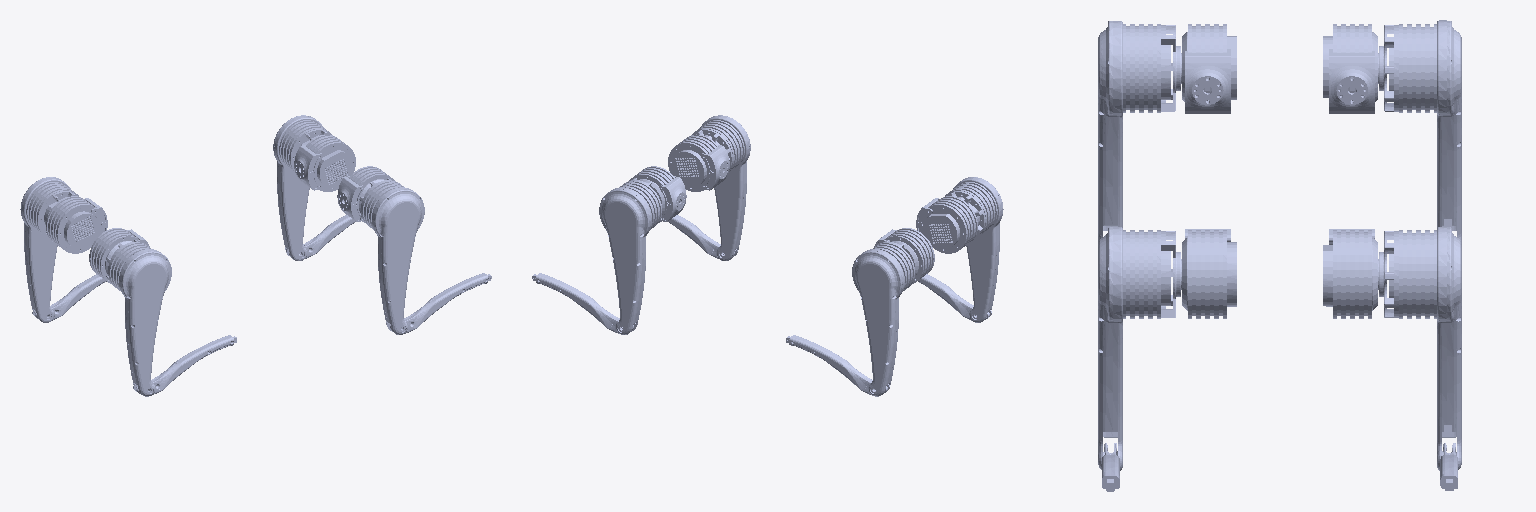
--- What the picture shows (computed from the rendered views, not written in the file) ---
3 views of the same robot in one strip: view 1: azimuth 30°, elevation 25°; view 2: azimuth 150°, elevation 25°; view 3: azimuth 270°, elevation 25° (orthographic).
Robot: jamal2_v5 — 19 links, 18 joints (12 revolute, 6 fixed); root link base; default pose: all joints at 0 but 4 set to mid-range because 0 is outside their limits (FL_calf_joint = -1.77, RL_calf_joint = -1.77, FR_calf_joint = -1.77, RR_calf_joint = -1.77).
Visible links, largest first — view 1: FR_thigh, RR_thigh, RL_thigh, FL_thigh, RL_hip, FL_hip, FR_hip, RR_hip, FR_calf, RR_calf, RL_calf, FL_calf; view 2: FL_thigh, RL_thigh, RR_thigh, FR_thigh, RR_hip, FR_hip, FL_hip, RL_hip, FL_calf, RL_calf, RR_calf, FR_calf; view 3: FR_thigh, FL_thigh, RR_thigh, RL_thigh, RR_hip, RL_hip, FR_hip, FL_hip, FR_calf, FL_calf.
Boxes of the visible links, x1,y1,x2,y2 form: FR_thigh: (359,178,424,334); RR_thigh: (106,240,171,396); RL_thigh: (20,177,78,322); FL_thigh: (273,115,331,260); RL_hip: (46,196,107,253); FL_hip: (294,135,355,191); FR_hip: (337,166,394,222); RR_hip: (89,228,149,284); FR_calf: (388,273,491,333); RR_calf: (133,335,236,394); RL_calf: (32,274,106,320); FL_calf: (286,215,355,258); FL_thigh: (599,178,661,334); RL_thigh: (852,240,914,396); RR_thigh: (945,177,1003,322); FR_thigh: (692,115,750,260); RR_hip: (916,196,977,253); FR_hip: (668,135,729,191); FL_hip: (629,166,686,222); RL_hip: (874,228,934,284); FL_calf: (532,273,635,333); RL_calf: (786,335,889,394); RR_calf: (918,274,991,320); FR_calf: (668,215,737,258); FR_thigh: (1098,227,1180,470); FL_thigh: (1379,227,1461,470); RR_thigh: (1098,21,1180,243); RL_thigh: (1379,20,1461,243); RR_hip: (1181,24,1236,113); RL_hip: (1323,24,1378,113); FR_hip: (1181,229,1236,318); FL_hip: (1323,229,1378,318); FR_calf: (1102,443,1119,491); FL_calf: (1440,443,1457,490).
Bounding box of the posed robot: 0.7866 × 0.4021 × 0.2924 m (x, y, z).
12 mesh visuals loaded from 6 distinct referenced files (4 Collada DAE); not drawn: 5 (reference not matched to a file when rendering).

URDF robot description (jamal2_v5):
<?xml version="1.0" encoding="utf-8"?>
<!-- Finalized URDF for Gazebo Sim (ROS 2 Humble)
     - Mesh paths converted to package:// URIs (jamal03_description)
     - Removed Gazebo Classic plugin block
     - Added tiny inertials for zero-mass links (imu, radar)
-->
<robot name="jamal2_v5">

  <link name="base">
    <!-- <inertial>
      <origin xyz="-0.010 0 0"/>
      <mass value="11.75"/>
      <inertia ixx="0.0565900000000" ixy="0.0" ixz="0.0" iyy="0.1660600000000" iyz="0.0" izz="0.2001200000000"/>
    </inertial> -->
    <inertial>
    <origin rpy="0 0 0" xyz="0.0 0 0.0"/>
      <mass value="12.8185384756311"/>
      <inertia ixx="0.0565667940678376" ixy="-8.54731557026013e-06" ixz="3.411601276539e-05" iyy="0.0364645326398335" iyz="-4.86965244292946e-06" izz="0.0737588756462406"/>
    </inertial>
      <!-- <origin rpy="0 0 0" xyz="-0.025 0 -0.0005"/>
      <mass value="13.2256112448737"/>
      <inertia ixx="0.0574649406584405" ixy="-1.11608864587071e-05" ixz="-0.000327983144671164" iyy="0.0379676555450497" iyz="-6.76168747114003e-06" izz="0.0755303202855583"/>
    </inertial> -->
    <visual>
      <origin xyz="0 0 0" rpy="0 0 0"/>
      <geometry>
        <mesh filename="../dae/base.dae"/>
      </geometry>
      <material name="">
        <color rgba="0.792156862745098 0.819607843137255 0.933333333333333 1"/>
      </material>
    </visual>
    <!-- <collision>
      <origin xyz="0 0 0" rpy="0 0 0"/>
      <geometry>
        <mesh filename="file://[local-path]/jamal_ws/src/jamal03_description/meshes/dae/base.dae"/>
      </geometry>
    </collision> -->
    <collision>
      <origin rpy="0 0 0" xyz="0 0 0"/>
      <geometry>
        <box size="0.3762 0.2 0.114"/>
      </geometry>
    </collision>
  </link>

  <!--
  <link name="base_inertia">
    <inertial>
      <origin xyz="-0.010 0 0"/>
      <mass value="11.75"/>
      <inertia ixx="0.0565900000000" ixy="0.0" ixz="0.0" iyy="0.1660600000000" iyz="0.0" izz="0.2001200000000"/>
    </inertial>
  </link>
  <joint name="trunk_to_base_inertia" type="fixed">
    <parent link="trunk"/>
    <child link="base_inertia"/>
    <origin rpy="0 0 0" xyz="0 0 0"/>
  </joint>
  -->

  <!-- FL LEG -->
  <link name="FL_hip">
    <inertial>
      <origin xyz="-0.00339550828476409 -0.000904087285408195 -3.93218339349122E-05" rpy="0 0 0"/>
      <mass value="0.9"/>
      <inertia ixx="0.00035687" ixy="0.0" ixz="0.0" iyy="0.00065235" iyz="0.0" izz="0.00052753"/>
    </inertial>
    <visual>
      <origin xyz="0 0 0" rpy="0 0 0"/>
      <geometry>
        <mesh filename="../dae/hip.dae"/>
      </geometry>
      <material name="">
        <color rgba="0.792156862745098 0.819607843137255 0.933333333333333 1"/>
      </material>
    </visual>
    <!-- <collision>
      <origin xyz="0 0 0" rpy="0 0 0"/>
      <geometry>
        <mesh filename="file://[local-path]/jamal_ws/src/jamal03_description/meshes/dae/hip.dae"/>
      </geometry>
    </collision> -->
    <!-- <collision>
      <origin rpy="1.5707963267948966 0 0" xyz="0 0.08 0" />
      <geometry>
        <cylinder length="0.04" radius="0.046" />
      </geometry>
    </collision> -->
    <collision>
      <origin rpy="1.5707963267948966 0 0" xyz="0 0 0"/>
      <geometry>
        <cylinder length="0.04" radius="0.046"/>
      </geometry>
    </collision>
  </link>
  <joint name="FL_hip_joint" type="revolute">
    <origin xyz="0.2709 0.0804499999999991 0" rpy="0 0 0"/>
    <parent link="base"/>
    <child link="FL_hip"/>
    <axis xyz="1 0 0"/>
    <limit lower="-1.0472" upper="1.0472" effort="60" velocity="30.02"/>
  </joint>

  <link name="FL_thigh">
    <inertial>
      <origin xyz="-0.000671046034244019 -0.0302253641306092 -0.0144678808109222" rpy="0 0 0"/>
      <mass value="1.3"/>
      <inertia ixx="0.00502768" ixy="0.0" ixz="0.0" iyy="0.00407764" iyz="0.0" izz="0.00172122"/>
    </inertial>
    <visual>
      <origin xyz="0 0 0" rpy="0 0 0"/>
      <geometry>
        <mesh filename="../dae/thigh.dae"/>
      </geometry>
      <material name="">
        <color rgba="0.792156862745098 0.819607843137255 0.933333333333333 1"/>
      </material>
    </visual>
    <!-- <collision>
      <origin xyz="0 0 0" rpy="0 0 0"/>
      <geometry>
        <mesh filename="file://[local-path]/jamal_ws/src/jamal03_description/meshes/dae/thigh.dae"/>
      </geometry>
    </collision> -->
    <!-- <collision>
      <origin rpy="0 1.5707963267948966 0" xyz="0 0 -0.1065" />
      <geometry>
        <box size="0.11 0.0245 0.034" />
      </geometry>
    </collision> -->
    <collision>
      <origin rpy="0 1.6707963267948966 0" xyz="-0.015 0 -0.1125"/>
      <geometry>
        <box size="0.225 0.0245 0.034"/>
      </geometry>
    </collision>
    <collision>
      <origin rpy="1.5707963267948966 0 0" xyz="0 -0.008 0"/>
      <geometry>
        <cylinder length="0.032" radius="0.041"/>
      </geometry>
    </collision>
  </link>
  <joint name="FL_thigh_joint" type="revolute">
    <origin xyz="0 0.10705 0" rpy="0 0 0"/>
    <parent link="FL_hip"/>
    <child link="FL_thigh"/>
    <axis xyz="0 1 0"/>
    <limit lower="-1.57" upper="3.4907" effort="60" velocity="30.02"/>
  </joint>

  <link name="FL_calf">
    <inertial>
      <origin xyz="0.0103069670980445 8.8674414934875E-05 -0.0839291622348222" rpy="0 0 0"/>
      <mass value="0.150"/>
      <inertia ixx="0.0001228100000" ixy="0.0" ixz="0.0" iyy="0.0001254700000" iyz="0.0" izz="0.0"/>
    </inertial>
    <visual>
      <origin xyz="0 0 0" rpy="0 0 0"/>
      <geometry>
        <mesh filename="../dae/calf.dae"/>
      </geometry>
      <material name="">
        <color rgba="0.792156862745098 0.819607843137255 0.933333333333333 1"/>
      </material>
    </visual>
    <!-- <collision>
      <origin xyz="0 0 0" rpy="0 0 0"/>
      <geometry>
        <mesh filename="file://[local-path]/jamal_ws/src/jamal03_description/meshes/dae/calf.dae"/>
      </geometry>
    </collision> -->
    <!-- <collision>
      <origin rpy="0 -0.21 0" xyz="0.008 0 -0.06" />
      <geometry>
        <cylinder length="0.12" radius="0.012" />
      </geometry>
    </collision> -->
    <collision>
      <origin rpy="0 1.5707963267948966 0" xyz="0.0 0 -0.1175"/>
      <geometry>
        <box size="0.235 0.016 0.016"/>
      </geometry>
    </collision>
  </link>
  <joint name="FL_calf_joint" type="revolute">
    <origin xyz="0.00167691666386546 0 -0.22499375091434" rpy="0 0 0"/>
    <parent link="FL_thigh"/>
    <child link="FL_calf"/>
    <axis xyz="0 1 0"/>
    <limit lower="-2.67035" upper="-0.872665" effort="60" velocity="30.02"/>
  </joint>

  <link name="FL_foot">
    <inertial>
      <origin xyz="0.00893731403573057 5.86075363651073E-06 0.0227015493807513" rpy="0 0 0"/>
      <mass value="0.0320640218816045"/>
      <inertia ixx="0.000004011650" ixy="0.0" ixz="0.0" iyy="0.000004180755" iyz="0.0" izz="0.000003635190"/>
    </inertial>
    <visual>
      <origin xyz="0 0 0" rpy="0 0 0"/>
      <geometry>
        <mesh filename="../dae/foot.dae"/>
      </geometry>
      <material name="">
        <color rgba="0.792156862745098 0.819607843137255 0.933333333333333 1"/>
      </material>
    </visual>
    <collision>
      <origin xyz="0 0 0" rpy="0 0 0"/>
      <geometry>
        <sphere radius="0.02"/>
      </geometry>
    </collision>
  </link>
  <joint name="FL_foot_joint" type="fixed">
    <origin xyz="-0.00157691666386468 5.00000000003276E-05 -0.23" rpy="0 0 0"/>
    <parent link="FL_calf"/>
    <child link="FL_foot"/>
    <axis xyz="0 0 0"/>
  </joint>

  <!-- RL LEG -->
  <link name="RL_hip">
    <inertial>
      <origin xyz="0.00339550828476404 -0.0009040872854085 3.93218339348513E-05" rpy="0 0 0"/>
      <mass value="0.9"/>
      <inertia ixx="0.0003180000000" ixy="0.0" ixz="0.0" iyy="0.0004208600000" iyz="0.0" izz="0.0003061700000"/>
    </inertial>
    <visual>
      <origin xyz="0 0 0" rpy="0 3.1415 0"/>
      <geometry>
        <mesh filename="../dae/hip.dae"/>
      </geometry>
      <material name="">
        <color rgba="0.792156862745098 0.819607843137255 0.933333333333333 1"/>
      </material>
    </visual>
    <!-- <collision>
      <origin xyz="0 0 0" rpy="0 0 0"/>
      <geometry>
        <mesh filename="file://[local-path]/jamal_ws/src/jamal03_description/meshes/dae/hip.dae"/>
      </geometry>
    </collision> -->
    <!-- <collision>
      <origin rpy="1.5707963267948966 0 0" xyz="0 0.08 0" />
      <geometry>
        <cylinder length="0.04" radius="0.046" />
      </geometry>
    </collision> -->
    <collision>
      <origin rpy="1.5707963267948966 0 0" xyz="0 0 0"/>
      <geometry>
        <cylinder length="0.04" radius="0.046"/>
      </geometry>
    </collision>
  </link>
  <joint name="RL_hip_joint" type="revolute">
    <origin xyz="-0.2689 0.0804500000000009 0" rpy="0 0 0"/>
    <parent link="base"/>
    <child link="RL_hip"/>
    <axis xyz="1 0 0"/>
    <limit lower="-1.0472" upper="1.0472" effort="60" velocity="30.02"/>
  </joint>

  <link name="RL_thigh">
    <inertial>
      <origin xyz="-0.000671046033593636 -0.0302253641290889 -0.0144678808132316" rpy="0 0 0"/>
      <mass value="1.3"/>
      <inertia ixx="0.00502768" ixy="0.0" ixz="0.0" iyy="0.00407764" iyz="0.0" izz="0.00172122"/>
    </inertial>
    <visual>
      <origin xyz="0 0 0" rpy="0 0 0"/>
      <geometry>
        <mesh filename="../dae/thigh.dae"/>
      </geometry>
      <material name="">
        <color rgba="0.792156862745098 0.819607843137255 0.933333333333333 1"/>
      </material>
    </visual>
    <!-- <collision>
      <origin xyz="0 0 0" rpy="0 0 0"/>
      <geometry>
        <mesh filename="file://[local-path]/jamal_ws/src/jamal03_description/meshes/dae/thigh.dae"/>
      </geometry>
    </collision> -->
    <!-- <collision>
      <origin rpy="0 1.5707963267948966 0" xyz="0 0 -0.1065" />
      <geometry>
        <box size="0.11 0.0245 0.034" />
      </geometry>
    </collision> -->
    <collision>
      <origin rpy="0 1.6707963267948966 0" xyz="-0.015 0 -0.1125"/>
      <geometry>
        <box size="0.225 0.0245 0.034"/>
      </geometry>
    </collision>
    <collision>
      <origin rpy="1.5707963267948966 0 0" xyz="0 -0.008 0"/>
      <geometry>
        <cylinder length="0.032" radius="0.041"/>
      </geometry>
    </collision>
  </link>
  <joint name="RL_thigh_joint" type="revolute">
    <origin xyz="0 0.10705 0" rpy="0 0 0"/>
    <parent link="RL_hip"/>
    <child link="RL_thigh"/>
    <axis xyz="0 1 0"/>
    <limit lower="-0.5236" upper="4.5379" effort="60" velocity="30.02"/>
  </joint>

  <link name="RL_calf">
    <inertial>
      <origin xyz="0.0126339989859747 8.86744077252255E-05 -0.0839238523331708" rpy="0 0 0"/>
      <mass value="0.150"/>
      <inertia ixx="0.0001224000000" ixy="0.0" ixz="0.0" iyy="0.0001254700000" iyz="0.0" izz="0.000003609600"/>
    </inertial>
    <visual>
      <origin xyz="0 0 0" rpy="0 0 0"/>
      <geometry>
        <mesh filename="../dae/calf.dae"/>
      </geometry>
      <material name="">
        <color rgba="0.792156862745098 0.819607843137255 0.933333333333333 1"/>
      </material>
    </visual>
    <!-- <collision>
      <origin xyz="0 0 0" rpy="0 0 0"/>
      <geometry>
        <mesh filename="file://[local-path]/jamal_ws/src/jamal03_description/meshes/dae/calf.dae"/>
      </geometry>
    </collision> -->
    <!-- <collision>
      <origin rpy="0 -0.2 0" xyz="0.01 0 -0.06" />
      <geometry>
        <cylinder length="0.12" radius="0.013" />
      </geometry>
    </collision> -->
    <collision>
      <origin rpy="0 1.5707963267948966 0" xyz="0.0 0 -0.1175"/>
      <geometry>
        <box size="0.235 0.016 0.016"/>
      </geometry>
    </collision>
  </link>
  <joint name="RL_calf_joint" type="revolute">
    <origin xyz="-0.000650115239932358 0 -0.224999060776206" rpy="0 0 0"/>
    <parent link="RL_thigh"/>
    <child link="RL_calf"/>
    <axis xyz="0 1 0"/>
    <limit lower="-2.67035" upper="-0.872665" effort="60" velocity="30.02"/>
  </joint>

  <link name="RL_foot">
    <inertial>
      <origin xyz="0.00913734597626592 5.88313199131885E-06 0.0227015939594583" rpy="0 0 0"/>
      <mass value="0.0320638174515656"/>
      <inertia ixx="0.000000402415478" ixy="0.0" ixz="0.0" iyy="0.00000418078633" iyz="0.0" izz="0.00000362279264"/>
    </inertial>
    <visual>
      <origin xyz="0 0 0" rpy="0 0 0"/>
      <geometry>
        <mesh filename="../dae/foot.dae"/>
      </geometry>
      <material name="">
        <color rgba="0.792156862745098 0.819607843137255 0.933333333333333 1"/>
      </material>
    </visual>
    <collision>
      <origin xyz="0 0 0" rpy="0 0 0"/>
      <geometry>
        <sphere radius="0.02"/>
      </geometry>
    </collision>
  </link>
  <joint name="RL_foot_joint" type="fixed">
    <origin xyz="0.000550115239932258 5.00000000001888E-05 -0.23" rpy="0 0 0"/>
    <parent link="RL_calf"/>
    <child link="RL_foot"/>
    <axis xyz="0 0 0"/>
  </joint>

  <!-- FR LEG -->
  <link name="FR_hip">
    <inertial>
      <origin xyz="-0.00339550828476406 0.000904087285408264 3.93218339347566E-05" rpy="0 0 0"/>
      <mass value="0.9"/>
      <inertia ixx="0.0003180000000" ixy="0.0" ixz="0.0" iyy="0.0004208600000" iyz="0.0" izz="0.0003061700000"/>
    </inertial>
    <visual>
      <origin xyz="0 0 0" rpy="3.1415 0 0"/>
      <geometry>
        <mesh filename="../dae/hip.dae"/>
      </geometry>
      <material name="">
        <color rgba="0.792156862745098 0.819607843137255 0.933333333333333 1"/>
      </material>
    </visual>
    <!-- <collision>
      <origin xyz="0 0 0" rpy="0 0 0"/>
      <geometry>
        <mesh filename="file://[local-path]/jamal_ws/src/jamal03_description/meshes/dae/hip.dae"/>
      </geometry>
    </collision> -->
    <!-- <collision>
      <origin rpy="1.5707963267948966 0 0" xyz="0 -0.08 0" />
      <geometry>
        <cylinder length="0.04" radius="0.046" />
      </geometry>
    </collision> -->
    <collision>
      <origin rpy="1.5707963267948966 0 0" xyz="0 0 0"/>
      <geometry>
        <cylinder length="0.04" radius="0.046"/>
      </geometry>
    </collision>
  </link>
  <joint name="FR_hip_joint" type="revolute">
    <origin xyz="0.2709 -0.080450000000001 0" rpy="0 0 0"/>
    <parent link="base"/>
    <child link="FR_hip"/>
    <axis xyz="1 0 0"/>
    <limit lower="-1.0472" upper="1.0472" effort="60" velocity="30.02"/>
  </joint>

  <link name="FR_thigh">
    <inertial>
      <origin xyz="-0.00176952960662956 0.0302157290390143 -0.014525532740339" rpy="0 0 0"/>
      <mass value="1.3"/>
      <inertia ixx="0.00502768" ixy="0.0" ixz="0.0" iyy="0.00407764" iyz="0.0" izz="0.00172122"/>
    </inertial>
    <visual>
      <origin xyz="0 0 0" rpy="0 0 0"/>
      <geometry>
        <mesh filename="../dae/thigh_mirror.dae"/>
      </geometry>
      <material name="">
        <color rgba="0.792156862745098 0.819607843137255 0.933333333333333 1"/>
      </material>
    </visual>
    <!-- <collision>
      <origin xyz="0 0 0" rpy="0 0 0"/>
      <geometry>
        <mesh filename="file://[local-path]/jamal_ws/src/jamal03_description/meshes/dae/thigh_mirror.dae"/>
      </geometry>
    </collision> -->
    <!-- <collision>
      <origin rpy="0 1.5707963267948966 0" xyz="0 0 -0.1065" />
      <geometry>
        <box size="0.11 0.0245 0.034" />
      </geometry>
    </collision> -->
    <collision>
      <origin rpy="0 1.6707963267948966 0" xyz="-0.015 0 -0.1125"/>
      <geometry>
        <box size="0.225 0.0245 0.034"/>
      </geometry>
    </collision>
    <collision>
      <origin rpy="1.5707963267948966 0 0" xyz="0 0.008 0"/>
      <geometry>
        <cylinder length="0.032" radius="0.041"/>
      </geometry>
    </collision>
  </link>
  <joint name="FR_thigh_joint" type="revolute">
    <origin xyz="0 -0.10705 0" rpy="0 0 0"/>
    <parent link="FR_hip"/>
    <child link="FR_thigh"/>
    <axis xyz="0 1 0"/>
    <limit lower="-1.57" upper="3.4907" effort="60" velocity="30.02"/>
  </joint>

  <link name="FR_calf">
    <inertial>
      <origin xyz="0.0102527392769851 -1.13256009847129E-05 -0.0839295728842211" rpy="0 0 0"/>
      <mass value="0.150"/>
      <inertia ixx="0.0001231600000" ixy="0.0" ixz="0.0" iyy="0.0001254700000" iyz="0.0" izz="0.000002850100"/>
    </inertial>
    <visual>
      <origin xyz="0 0 0" rpy="0 0 0"/>
      <geometry>
        <mesh filename="../dae/calf.dae"/>
      </geometry>
      <material name="">
        <color rgba="0.792156862745098 0.819607843137255 0.933333333333333 1"/>
      </material>
    </visual>
    <!-- <collision>
      <origin xyz="0 0 0" rpy="0 0 0"/>
      <geometry>
        <mesh filename="file://[local-path]/jamal_ws/src/jamal03_description/meshes/dae/calf.dae"/>
      </geometry>
    </collision> -->
    <!-- <collision>
      <origin rpy="0 -0.2 0" xyz="0.01 0 -0.06" />
      <geometry>
        <cylinder length="0.12" radius="0.013" />
      </geometry>
    </collision> -->
    <collision>
      <origin rpy="0 1.5707963267948966 0" xyz="0.0 0 -0.1175"/>
      <geometry>
        <box size="0.235 0.016 0.016"/>
      </geometry>
    </collision>
  </link>
  <joint name="FR_calf_joint" type="revolute">
    <origin xyz="0.00173114446018699 0 -0.224993340210012" rpy="0 0 0"/>
    <parent link="FR_thigh"/>
    <child link="FR_calf"/>
    <axis xyz="0 1 0"/>
    <limit lower="-2.67035" upper="-0.872665" effort="60" velocity="30.02"/>
  </joint>

  <link name="FR_foot">
    <inertial>
      <origin xyz="0.00893728377743531 5.90963237645514E-06 0.0227015439249714" rpy="0 0 0"/>
      <mass value="0.0320640030654593"/>
      <inertia ixx="0.0000003998133" ixy="0.0" ixz="0.0" iyy="0.0000004180799" iyz="0.0" izz="0.000003648803"/>
    </inertial>
    <visual>
      <origin xyz="0 0 0" rpy="0 0 0"/>
      <geometry>
        <mesh filename="../dae/foot.dae"/>
      </geometry>
      <material name="">
        <color rgba="0.792156862745098 0.819607843137255 0.933333333333333 1"/>
      </material>
    </visual>
    <collision>
      <origin xyz="0 0 0" rpy="0 0 0"/>
      <geometry>
        <sphere radius="0.02"/>
      </geometry>
    </collision>
  </link>
  <joint name="FR_foot_joint" type="fixed">
    <origin xyz="-0.0016311444601869 -5.00000000001333E-05 -0.23" rpy="0 0 0"/>
    <parent link="FR_calf"/>
    <child link="FR_foot"/>
    <axis xyz="0 0 0"/>
  </joint>

  <!-- RR LEG -->
  <link name="RR_hip">
    <inertial>
      <origin xyz="0.0033955082847642 0.000904087285408431 -3.93218339348663E-05" rpy="0 0 0"/>
      <mass value="0.9"/>
      <inertia ixx="0.0003180000000" ixy="0.0" ixz="0.0" iyy="0.0004208600000" iyz="0.0" izz="0.0003061700000"/>
    </inertial>
    <visual>
      <origin xyz="0 0 0" rpy="3.1415 3.1415 0"/>
      <geometry>
        <mesh filename="../dae/hip.dae"/>
      </geometry>
      <material name="">
        <color rgba="0.792156862745098 0.819607843137255 0.933333333333333 1"/>
      </material>
    </visual>
    <!-- <collision>
      <origin xyz="0 0 0" rpy="0 0 0"/>
      <geometry>
        <mesh filename="file://[local-path]/jamal_ws/src/jamal03_description/meshes/dae/hip.dae"/>
      </geometry>
    </collision> -->
    <!-- <collision>
      <origin rpy="1.5707963267948966 0 0" xyz="0 -0.08 0" />
      <geometry>
        <cylinder length="0.04" radius="0.046" />
      </geometry>
    </collision> -->
    <collision>
      <origin rpy="1.5707963267948966 0 0" xyz="0 0 0"/>
      <geometry>
        <cylinder length="0.04" radius="0.046"/>
      </geometry>
    </collision>
  </link>
  <joint name="RR_hip_joint" type="revolute">
    <origin xyz="-0.2689 -0.0804499999999991 0" rpy="0 0 0"/>
    <parent link="base"/>
    <child link="RR_hip"/>
    <axis xyz="1 0 0"/>
    <limit lower="-1.0472" upper="1.0472" effort="60" velocity="30.02"/>
  </joint>

  <link name="RR_thigh">
    <inertial>
      <origin xyz="-0.00176953234561411 0.0302157260207732 -0.014525535930203" rpy="0 0 0"/>
      <mass value="1.3"/>
      <inertia ixx="0.00502768" ixy="0.0" ixz="0.0" iyy="0.00407764" iyz="0.0" izz="0.00172122"/>
    </inertial>
    <visual>
      <origin xyz="0 0 0" rpy="0 0 0"/>
      <geometry>
        <mesh filename="../dae/thigh_mirror.dae"/>
      </geometry>
      <material name="">
        <color rgba="0.792156862745098 0.819607843137255 0.933333333333333 1"/>
      </material>
    </visual>
    <!-- <collision>
      <origin xyz="0 0 0" rpy="0 0 0"/>
      <geometry>
        <mesh filename="file://[local-path]/jamal_ws/src/jamal03_description/meshes/dae/thigh_mirror.dae"/>
      </geometry>
    </collision> -->
    <!-- <collision>
      <origin rpy="0 1.5707963267948966 0" xyz="0 0 -0.1065" />
      <geometry>
        <box size="0.11 0.0245 0.034" />
      </geometry>
    </collision> -->
    <collision>
      <origin rpy="0 1.6707963267948966 0" xyz="-0.015 0 -0.1125"/>
      <geometry>
        <box size="0.225 0.0245 0.034"/>
      </geometry>
    </collision>
    <collision>
      <origin rpy="1.5707963267948966 0 0" xyz="0 0.008 0"/>
      <geometry>
        <cylinder length="0.032" radius="0.041"/>
      </geometry>
    </collision>
  </link>
  <joint name="RR_thigh_joint" type="revolute">
    <origin xyz="0 -0.10705 0" rpy="0 0 0"/>
    <parent link="RR_hip"/>
    <child link="RR_thigh"/>
    <axis xyz="0 1 0"/>
    <limit lower="-0.5236" upper="4.5379" effort="60" velocity="30.02"/>
  </joint>

  <link name="RR_calf">
    <inertial>
      <origin xyz="0.013898625304367 -1.13255977724769E-05 -0.0839310604501493" rpy="0 0 0"/>
      <mass value="0.150"/>
      <inertia ixx="0.0001222200000" ixy="0.0" ixz="0.0" iyy="0.0001254700000" iyz="0.0" izz="0.000003787300"/>
    </inertial>
    <visual>
      <origin xyz="0 0 0" rpy="0 0 0"/>
      <geometry>
        <mesh filename="../dae/calf.dae"/>
      </geometry>
      <material name="">
        <color rgba="0.792156862745098 0.819607843137255 0.933333333333333 1"/>
      </material>
    </visual>
    <!-- <collision>
      <origin xyz="0 0 0" rpy="0 0 0"/>
      <geometry>
        <mesh filename="file://[local-path]/jamal_ws/src/jamal03_description/meshes/dae/calf.dae"/>
      </geometry>
    </collision> -->
    <!-- <collision>
      <origin rpy="0 -0.2 0" xyz="0.01 0 -0.06" />
      <geometry>
        <cylinder length="0.12" radius="0.013" />
      </geometry>
    </collision> -->
    <collision>
      <origin rpy="0 1.5707963267948966 0" xyz="0.0 0 -0.1175"/>
      <geometry>
        <box size="0.235 0.016 0.016"/>
      </geometry>
    </collision>
  </link>
  <joint name="RR_calf_joint" type="revolute">
    <origin xyz="-0.00191474156111915 0 -0.224991852663056" rpy="0 0 0"/>
    <parent link="RR_thigh"/>
    <child link="RR_calf"/>
    <axis xyz="0 1 0"/>
    <limit lower="-2.67035" upper="-0.872665" effort="60" velocity="30.02"/>
  </joint>

  <link name="RR_foot">
    <inertial>
      <origin xyz="0.00913733992079968 5.86350800374502E-06 0.0227015224447085" rpy="0 0 0"/>
      <mass value="0.0368002676392"/>
      <inertia ixx="0.00000402877298" ixy="0.0" ixz="0.0" iyy="0.00000418077603" iyz="0.0" izz="0.00000361810947"/>
    </inertial>
    <visual>
      <origin xyz="0 0 0" rpy="0 0 0"/>
      <geometry>
        <mesh filename="../dae/foot.dae"/>
      </geometry>
      <material name="">
        <color rgba="0.792156862745098 0.819607843137255 0.933333333333333 1"/>
      </material>
    </visual>
    <collision>
      <origin xyz="0 0 0" rpy="0 0 0"/>
      <geometry>
        <sphere radius="0.02"/>
      </geometry>
    </collision>
  </link>
  <joint name="RR_foot_joint" type="fixed">
    <origin xyz="0.00181474156111877 -5.000000000005E-05 -0.23" rpy="0 0 0"/>
    <parent link="RR_calf"/>
    <child link="RR_foot"/>
    <axis xyz="0 0 0"/>
  </joint>

  <!-- Sensors & extras -->
  <link name="imu">
    <inertial>
      <origin xyz="0 0 0" rpy="0 0 0"/>
      <mass value="0.001"/>
      <inertia ixx="1e-6" ixy="0" ixz="0" iyy="1e-6" iyz="0" izz="1e-6"/>
    </inertial>
  </link>
  <joint name="imu_joint" type="fixed">
    <origin xyz="-0.02557 0 0.04232" rpy="0 0 0"/>
    <parent link="base"/>
    <child link="imu"/>
    <axis xyz="0 0 0"/>
  </joint>

  <link name="radar">
    <inertial>
      <origin xyz="0 0 0" rpy="0 0 0"/>
      <mass value="0.001"/>
      <inertia ixx="1e-6" ixy="0" ixz="0" iyy="1e-6" iyz="0" izz="1e-6"/>
    </inertial>
  </link>
  <joint name="radar_joint" type="fixed">
    <origin xyz="0.28945 0 -0.046825" rpy="0 2.8782 0"/>
    <parent link="base"/>
    <child link="radar"/>
    <axis xyz="0 0 0"/>
  </joint>

  <!-- Removed Gazebo Classic plugin; use ros_gz_sim create + (later) gz_ros2_control -->
</robot>
